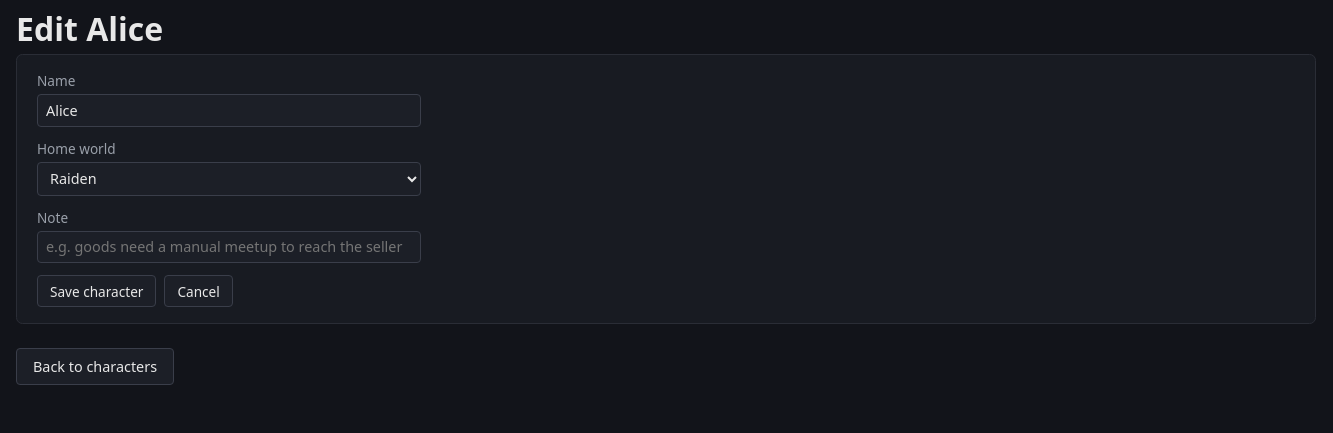
Test: EditCharacterContainer › should stay put saying something went wrong when saving fails outright
The image size is (1333, 433).
Type "Crafter" into the field labelled "Note" at point(229, 247), box left=37, top=231, right=421, bottom=263
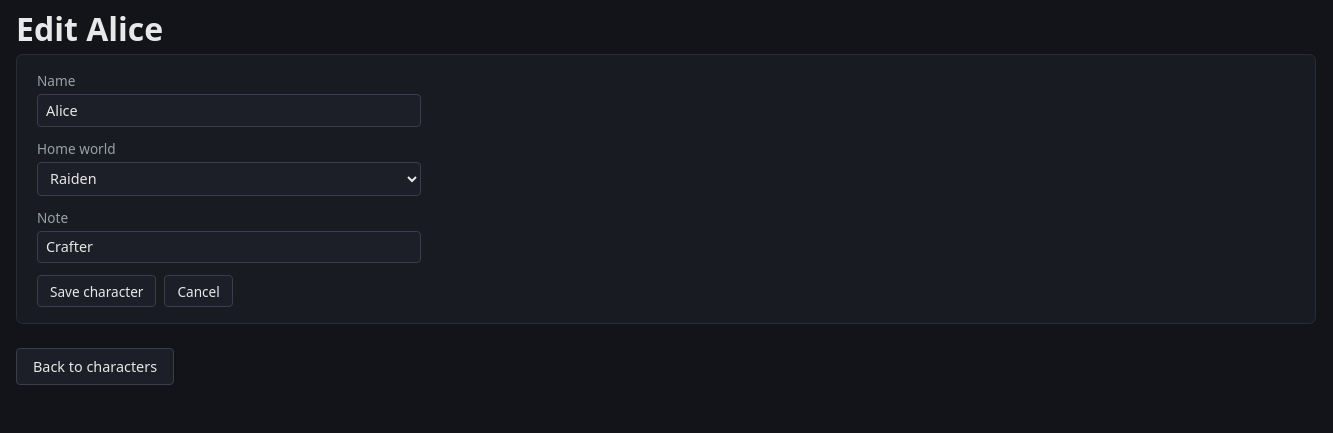
Click the button "Save character" at point(97, 291), box left=37, top=275, right=156, bottom=307
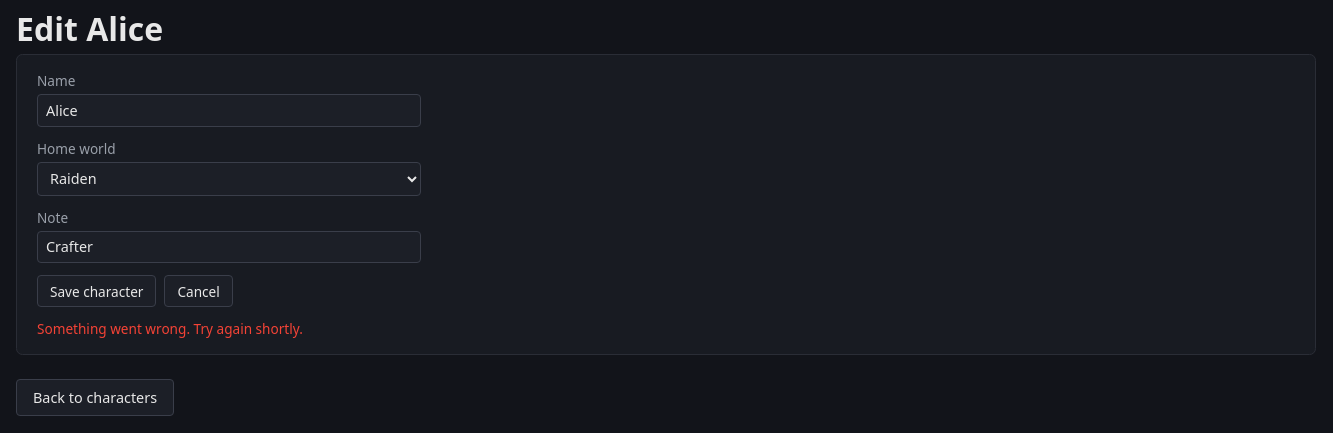
Expected: the message reads "Something went wrong. Try again shortly.", left=37, top=319, right=303, bottom=338
